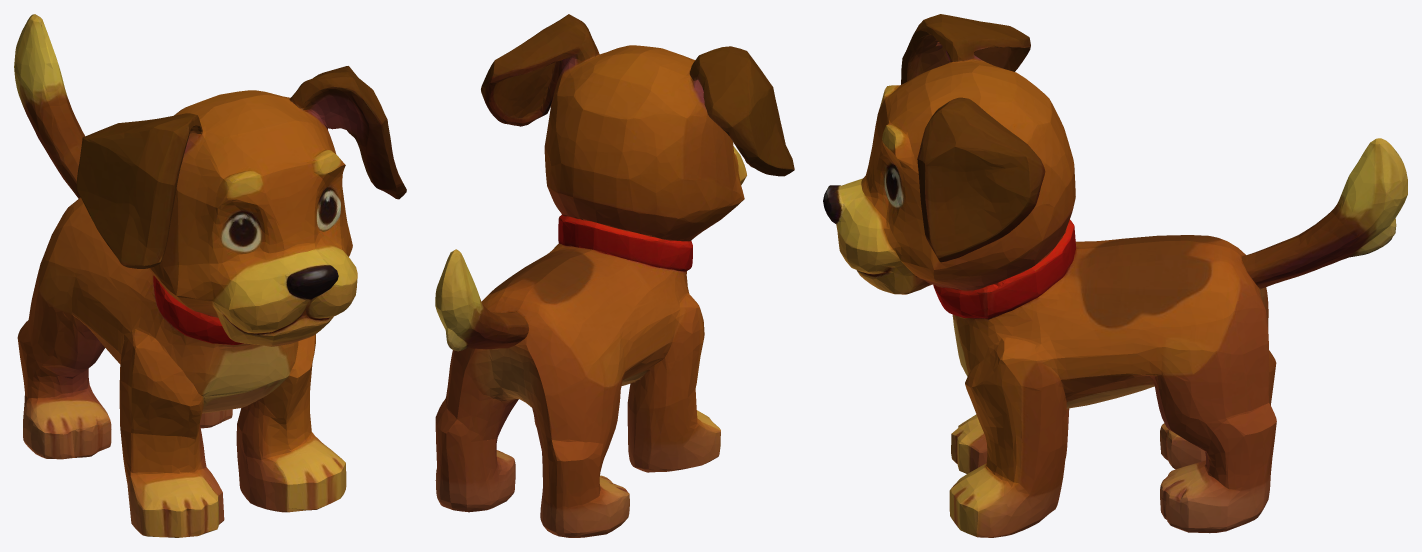
File: perro.glb
3 views of the same model, side by side, from view 1: azimuth 30°, elevation 25°; view 2: azimuth 150°, elevation 25°; view 3: azimuth 270°, elevation 25° (orthographic). The views are drawn at different scales.
Parts seen in each view (by area): view 1: geometry_0; view 2: geometry_0; view 3: geometry_0.
Part boxes in pixels (x1,y1,x2,y2): geometry_0: (14,14,406,537); geometry_0: (435,14,794,537); geometry_0: (823,14,1407,537).
Bounding box in the file's own units: 0.5761 × 0.8049 × 0.9949.
Materials: 1 (1 with a texture image).
